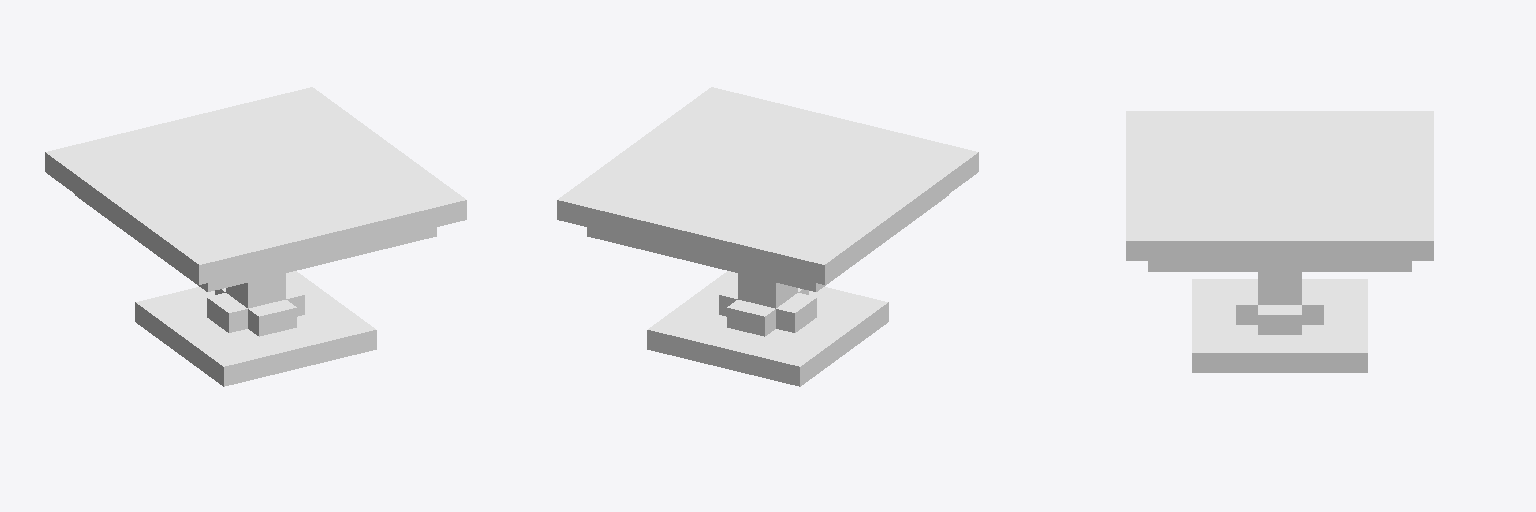
The model's file is TVS_VoxelKnights_Table.obj.
3 views of the same model, side by side, from view 1: azimuth 30°, elevation 25°; view 2: azimuth 150°, elevation 25°; view 3: azimuth 270°, elevation 25° (orthographic).
Parts seen in each view (by area): view 1: ObjObject.024; view 2: ObjObject.024; view 3: ObjObject.024.
Boxes of the visible parts, box(x1,y1,x2,y2) form: ObjObject.024: box(45, 87, 466, 386); ObjObject.024: box(557, 87, 978, 386); ObjObject.024: box(1126, 111, 1433, 372).
Size of the model in its own units: 1.4 by 0.8 by 1.4.